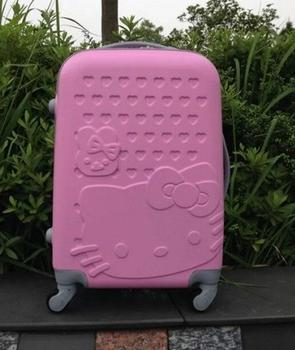suitcase: (44, 38, 232, 311)
